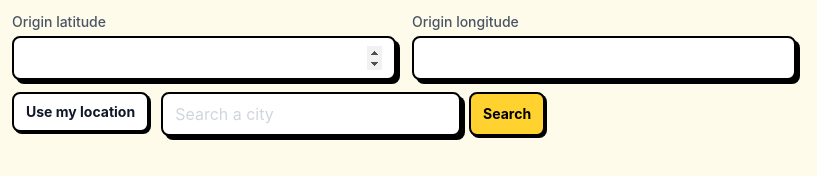
Test: OriginLocationFields › surfaces a failed lookup
In the field labelled "Search a city": [311, 114] box x1=161 y1=92 x2=461 y2=136, type "Malmö"
Then press Enter
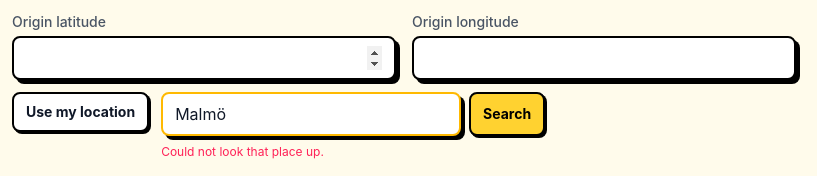
expect the text "Could not look that place up." is shown: met, box x1=161 y1=144 x2=324 y2=159
